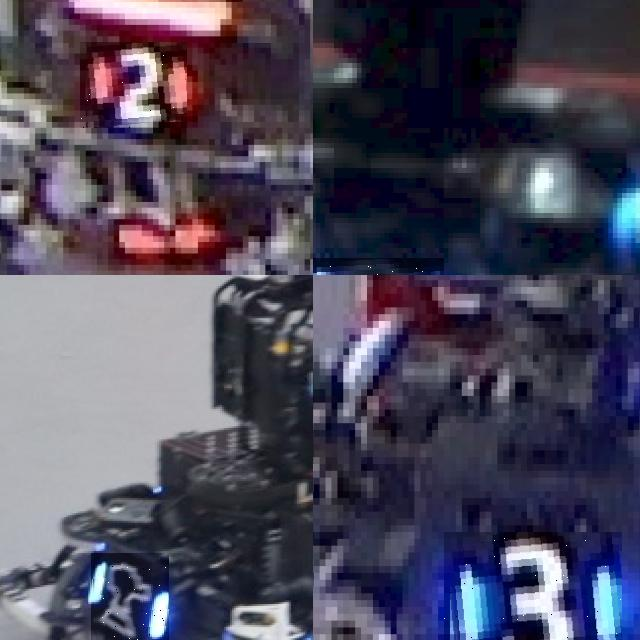B3: (444, 532, 622, 640)
Bs: (90, 553, 169, 640)
R2: (80, 42, 187, 128)
